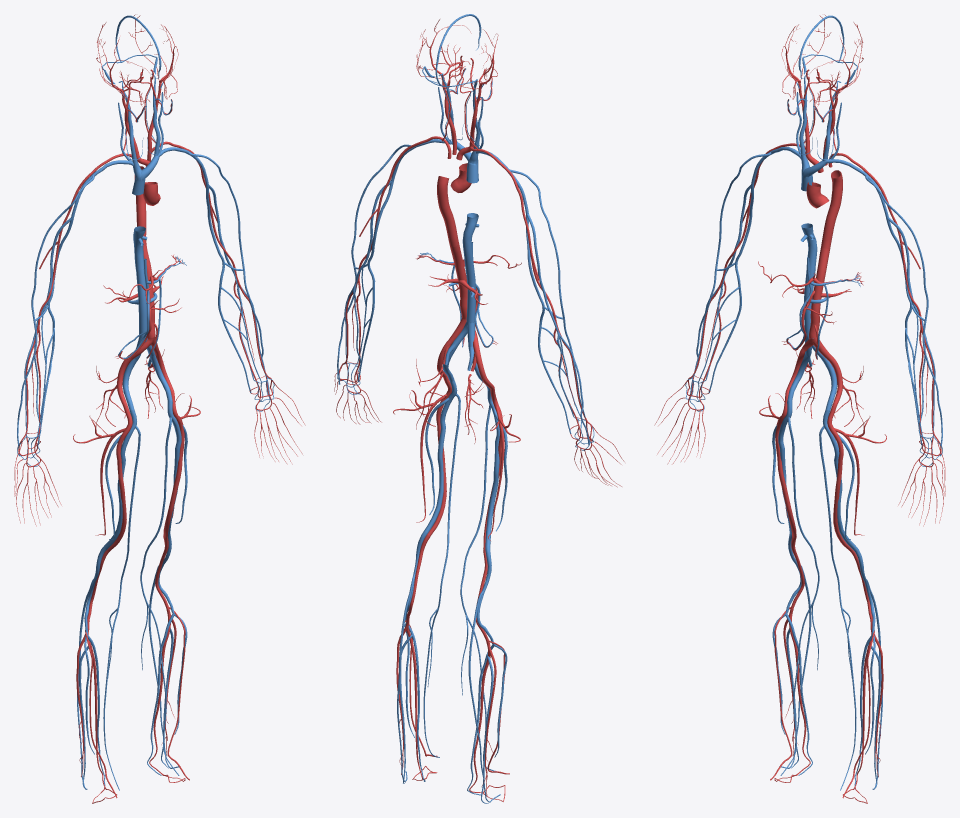
File: vascular_peripheral.glb
3 renders of one model, left to right at view 1: azimuth 30°, elevation 25°; view 2: azimuth 150°, elevation 25°; view 3: azimuth 330°, elevation 25°, orthographic.
Parts seen in each view (by area): view 1: Vascular_Venous_LowerLimb, Vascular_Venous_UpperLimb, Vascular_Arterial_LowerLimb, Vascular_Arterial_UpperLimb, Vascular_Arterial_AbdomenPelvis, Vascular_Venous_AbdomenPelvis, Vascular_Arterial_HeadNeck, Vascular_Venous_HeadNeck; view 2: Vascular_Venous_LowerLimb, Vascular_Venous_UpperLimb, Vascular_Arterial_LowerLimb, Vascular_Arterial_AbdomenPelvis, Vascular_Arterial_UpperLimb, Vascular_Venous_AbdomenPelvis, Vascular_Arterial_HeadNeck, Vascular_Venous_HeadNeck; view 3: Vascular_Venous_LowerLimb, Vascular_Venous_UpperLimb, Vascular_Arterial_LowerLimb, Vascular_Arterial_AbdomenPelvis, Vascular_Arterial_UpperLimb, Vascular_Venous_AbdomenPelvis, Vascular_Arterial_HeadNeck, Vascular_Venous_HeadNeck.
Part boxes in pixels (box(x1,y1,x2,y2)): Vascular_Venous_LowerLimb: box(77, 400, 187, 790); Vascular_Venous_UpperLimb: box(17, 147, 274, 466); Vascular_Arterial_LowerLimb: box(73, 391, 200, 803); Vascular_Arterial_UpperLimb: box(14, 141, 305, 526); Vascular_Arterial_AbdomenPelvis: box(96, 158, 183, 426); Vascular_Venous_AbdomenPelvis: box(118, 178, 186, 410); Vascular_Arterial_HeadNeck: box(96, 14, 178, 161); Vascular_Venous_HeadNeck: box(102, 15, 172, 161); Vascular_Venous_LowerLimb: box(397, 380, 507, 803); Vascular_Venous_UpperLimb: box(337, 139, 594, 450); Vascular_Arterial_LowerLimb: box(393, 375, 520, 801); Vascular_Arterial_AbdomenPelvis: box(416, 147, 521, 443); Vascular_Arterial_UpperLimb: box(334, 136, 624, 487); Vascular_Venous_AbdomenPelvis: box(418, 163, 493, 391); Vascular_Arterial_HeadNeck: box(416, 19, 498, 154); Vascular_Venous_HeadNeck: box(422, 14, 492, 148); Vascular_Venous_LowerLimb: box(772, 400, 882, 790); Vascular_Venous_UpperLimb: box(685, 147, 942, 466); Vascular_Arterial_LowerLimb: box(759, 391, 886, 803); Vascular_Arterial_AbdomenPelvis: box(758, 155, 863, 426); Vascular_Arterial_UpperLimb: box(654, 143, 945, 526); Vascular_Venous_AbdomenPelvis: box(786, 175, 861, 410); Vascular_Arterial_HeadNeck: box(781, 14, 863, 165); Vascular_Venous_HeadNeck: box(787, 15, 857, 161).
Size of the model in its own units: 0.664 by 1.68 by 0.1981.
